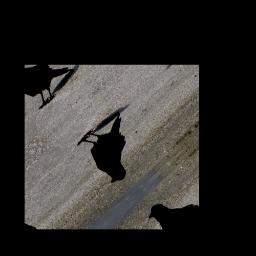Crow: (71, 106, 158, 188)
